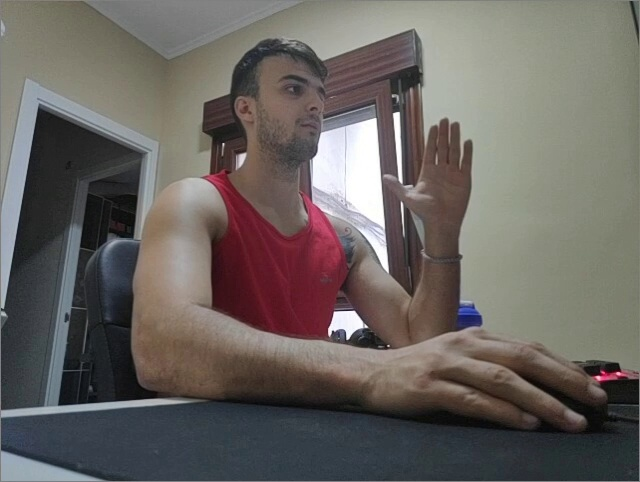Palm: (381, 113, 474, 224)
